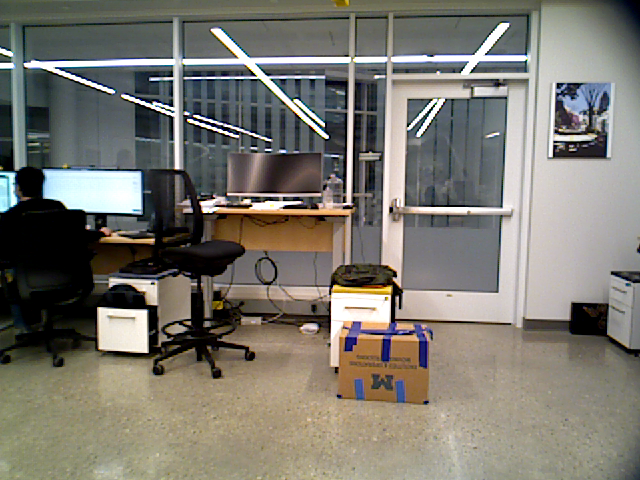painting3: (549, 82, 613, 160)
